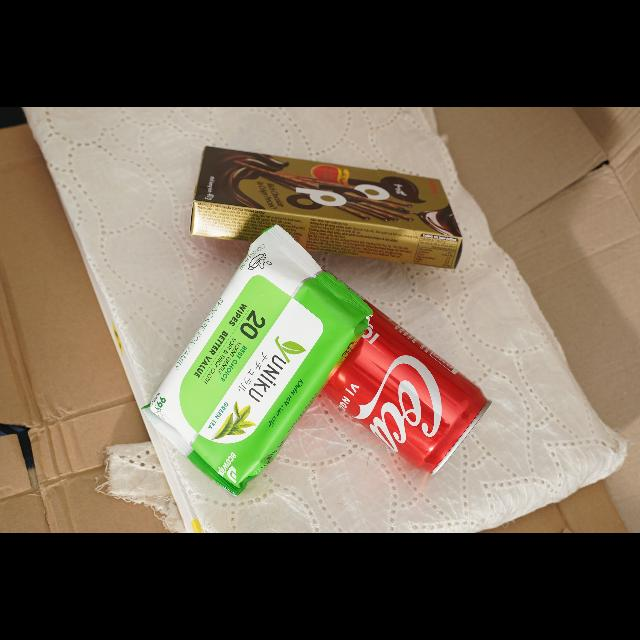banh_toppo_socola: (191, 147, 463, 269)
coca_cola: (322, 301, 488, 473)
khan_giay: (143, 226, 372, 487)
